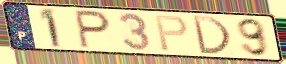1: (38, 7, 63, 49)
3: (117, 12, 152, 52)
9: (234, 18, 271, 58)
D: (190, 14, 234, 56)
P: (73, 8, 112, 50), (154, 14, 190, 53)
